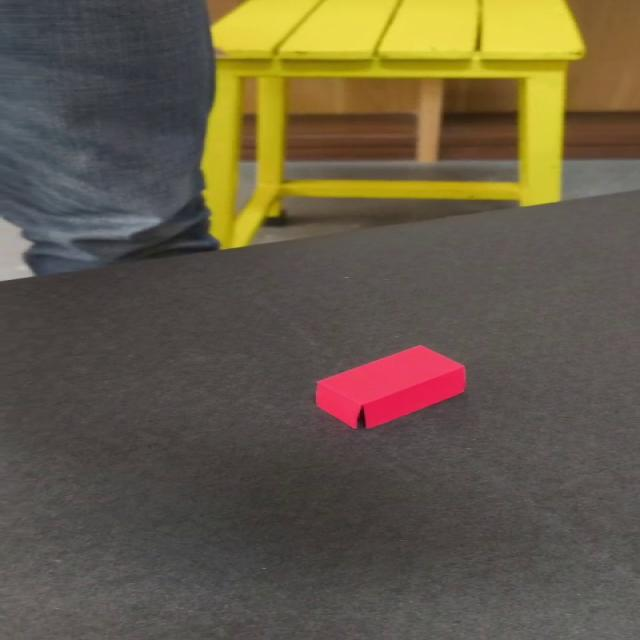red block: (313, 344, 467, 429)
